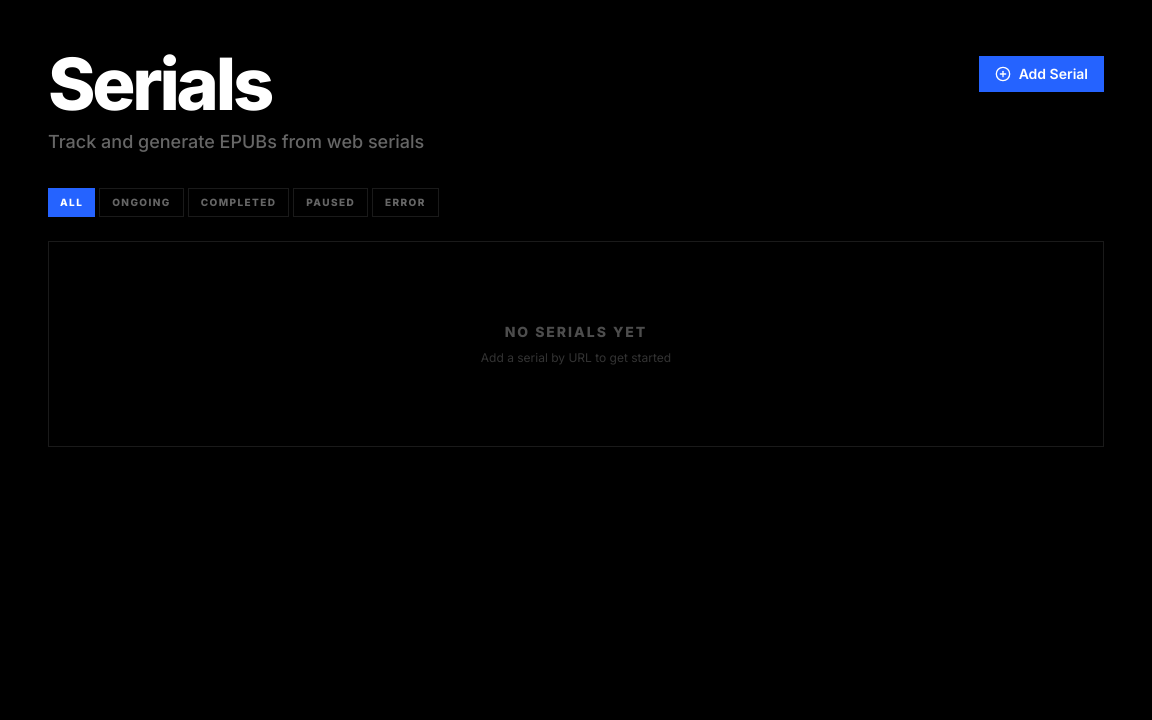
it: Serials page › shows error when POST fails
Click the button with test id "add-serial-btn" at x=1041, y=74, box [979,56,1104,92]
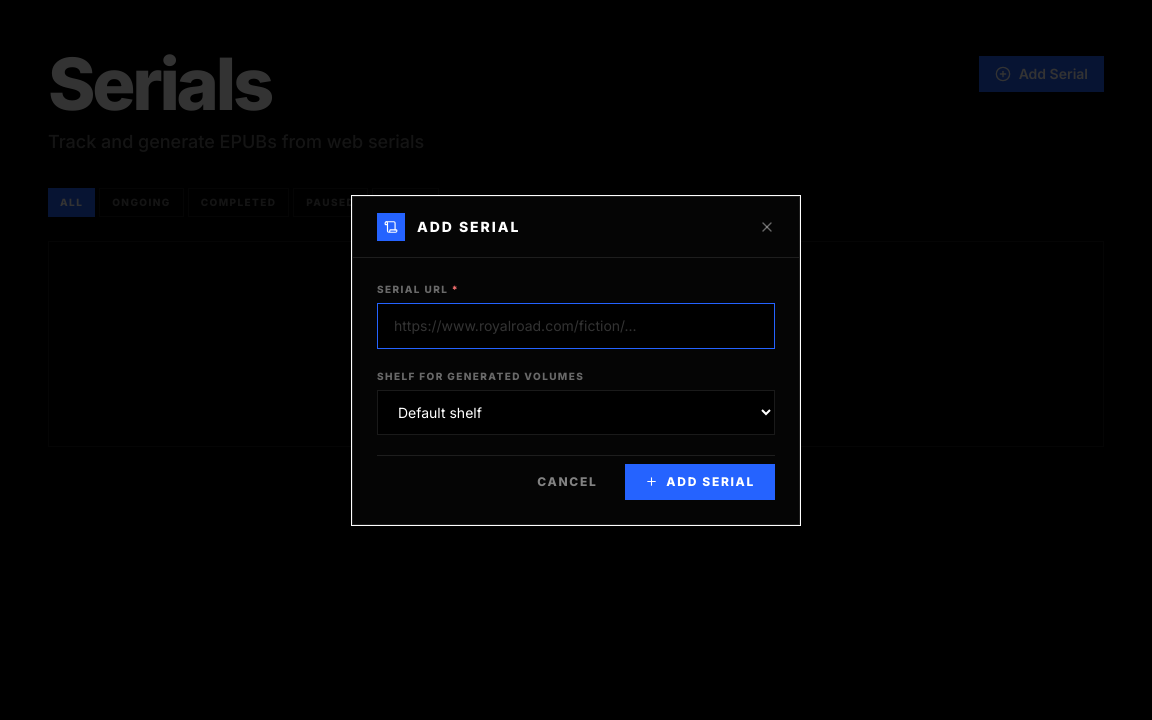
Type "https://example.com/unsupported" into the field with placeholder "https://www.royalroad.com/fiction/..." at x=576, y=326, box [377,302,775,348]
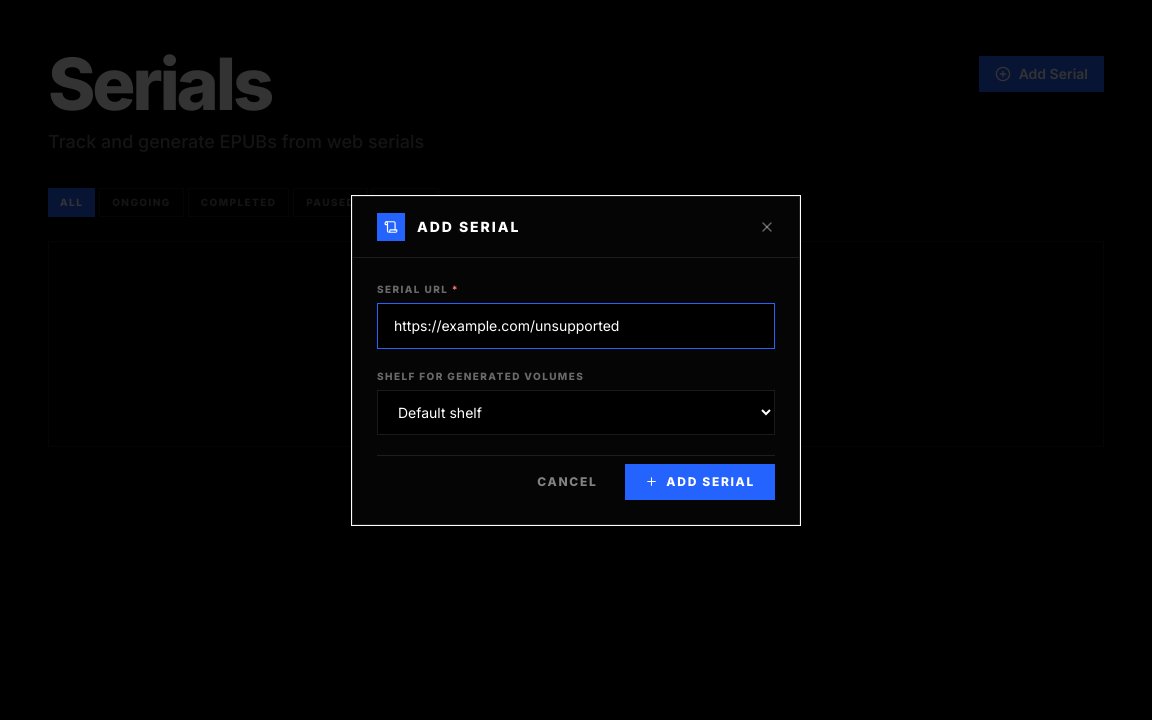
Click the button with test id "add-serial-submit" at x=700, y=482, box [625,464,775,500]
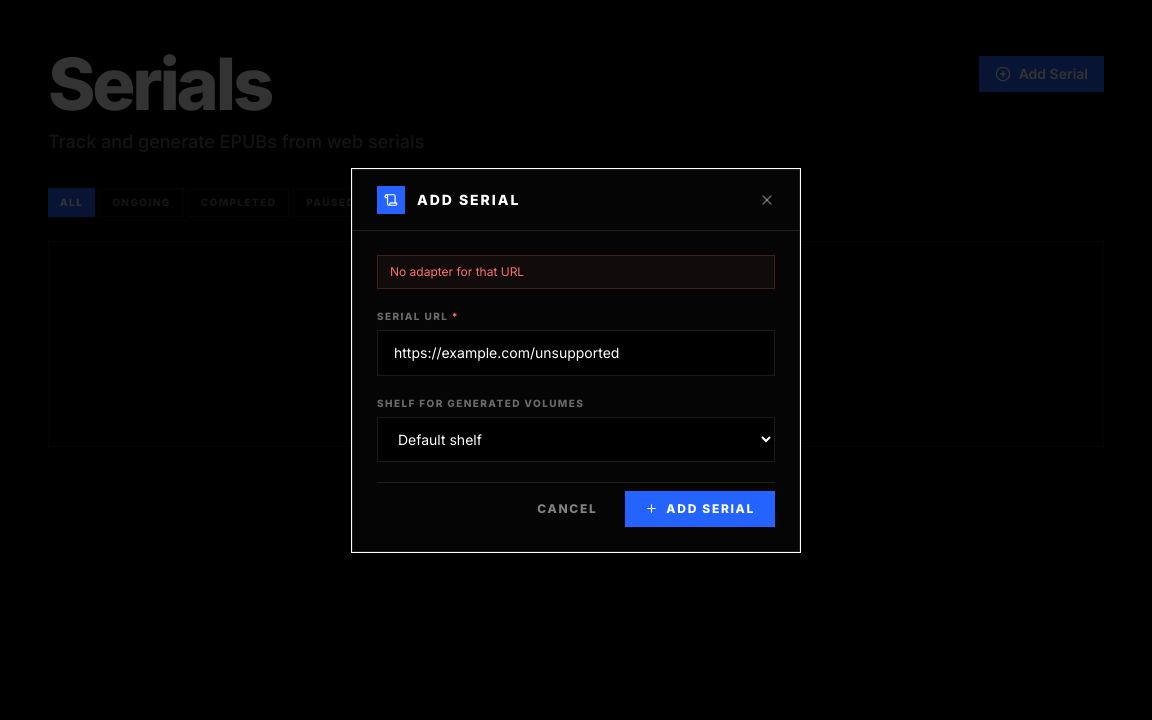
expect the text "No adapter for that URL" is shown: met, box [377,254,775,288]
